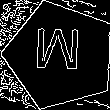M_S: (35, 30, 85, 82)
